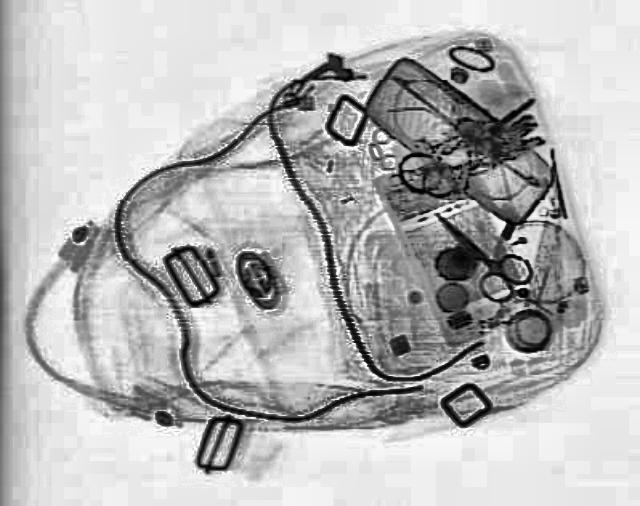Scissors: (405, 197, 545, 305)
